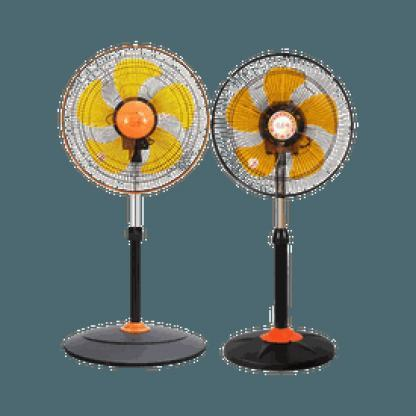fan: (50, 48, 212, 186), (221, 48, 355, 196)
